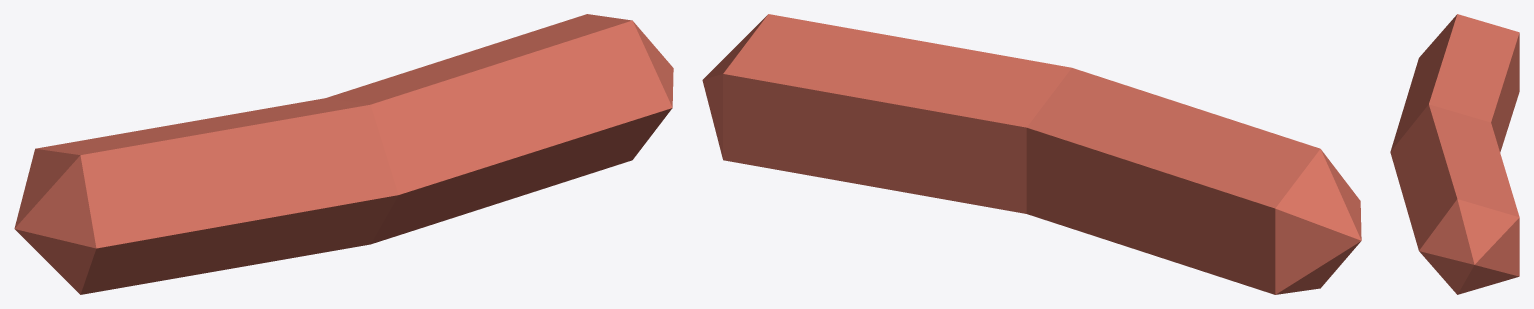
Rendered from SM_Item_Sausage_Raw_01.fbx.
The picture shows the model from 3 angles, left to right: view 1: azimuth 30°, elevation 25°; view 2: azimuth 150°, elevation 25°; view 3: azimuth 270°, elevation 25°; orthographic projection. The views are drawn at different scales.
Visible parts, largest first — view 1: SM_Item_Sausage_Raw_01; view 2: SM_Item_Sausage_Raw_01; view 3: SM_Item_Sausage_Raw_01.
Boxes of the visible parts, x1,y1,x2,y2 form: SM_Item_Sausage_Raw_01: (14,14,673,294); SM_Item_Sausage_Raw_01: (702,14,1361,294); SM_Item_Sausage_Raw_01: (1390,14,1519,294).
Size of the model in its own units: 28.64 by 5.8 by 7.09.
